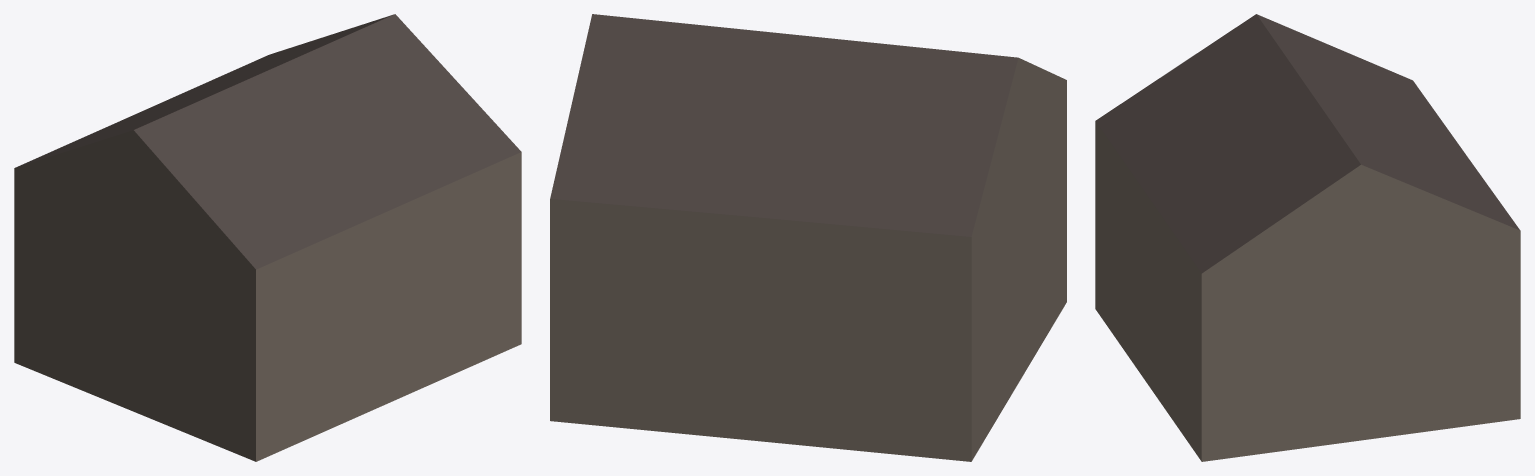
3 views of the same model, side by side, from view 1: azimuth 30°, elevation 25°; view 2: azimuth 150°, elevation 25°; view 3: azimuth 270°, elevation 25° (orthographic). The views are drawn at different scales.
Parts seen in each view (by area): view 1: HP-w783664794; view 2: HP-w783664794; view 3: HP-w783664794.
Part boxes in pixels (bbox=[...]): HP-w783664794: bbox=[14, 14, 521, 461]; HP-w783664794: bbox=[550, 14, 1066, 461]; HP-w783664794: bbox=[1095, 14, 1520, 461].
Size of the model in its own units: 13.04 by 8.79 by 12.27.
